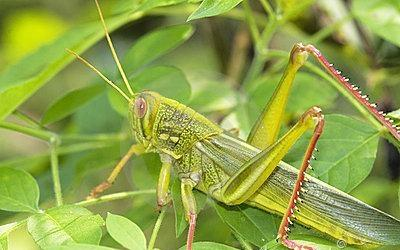huangchong: (111, 80, 400, 250)
